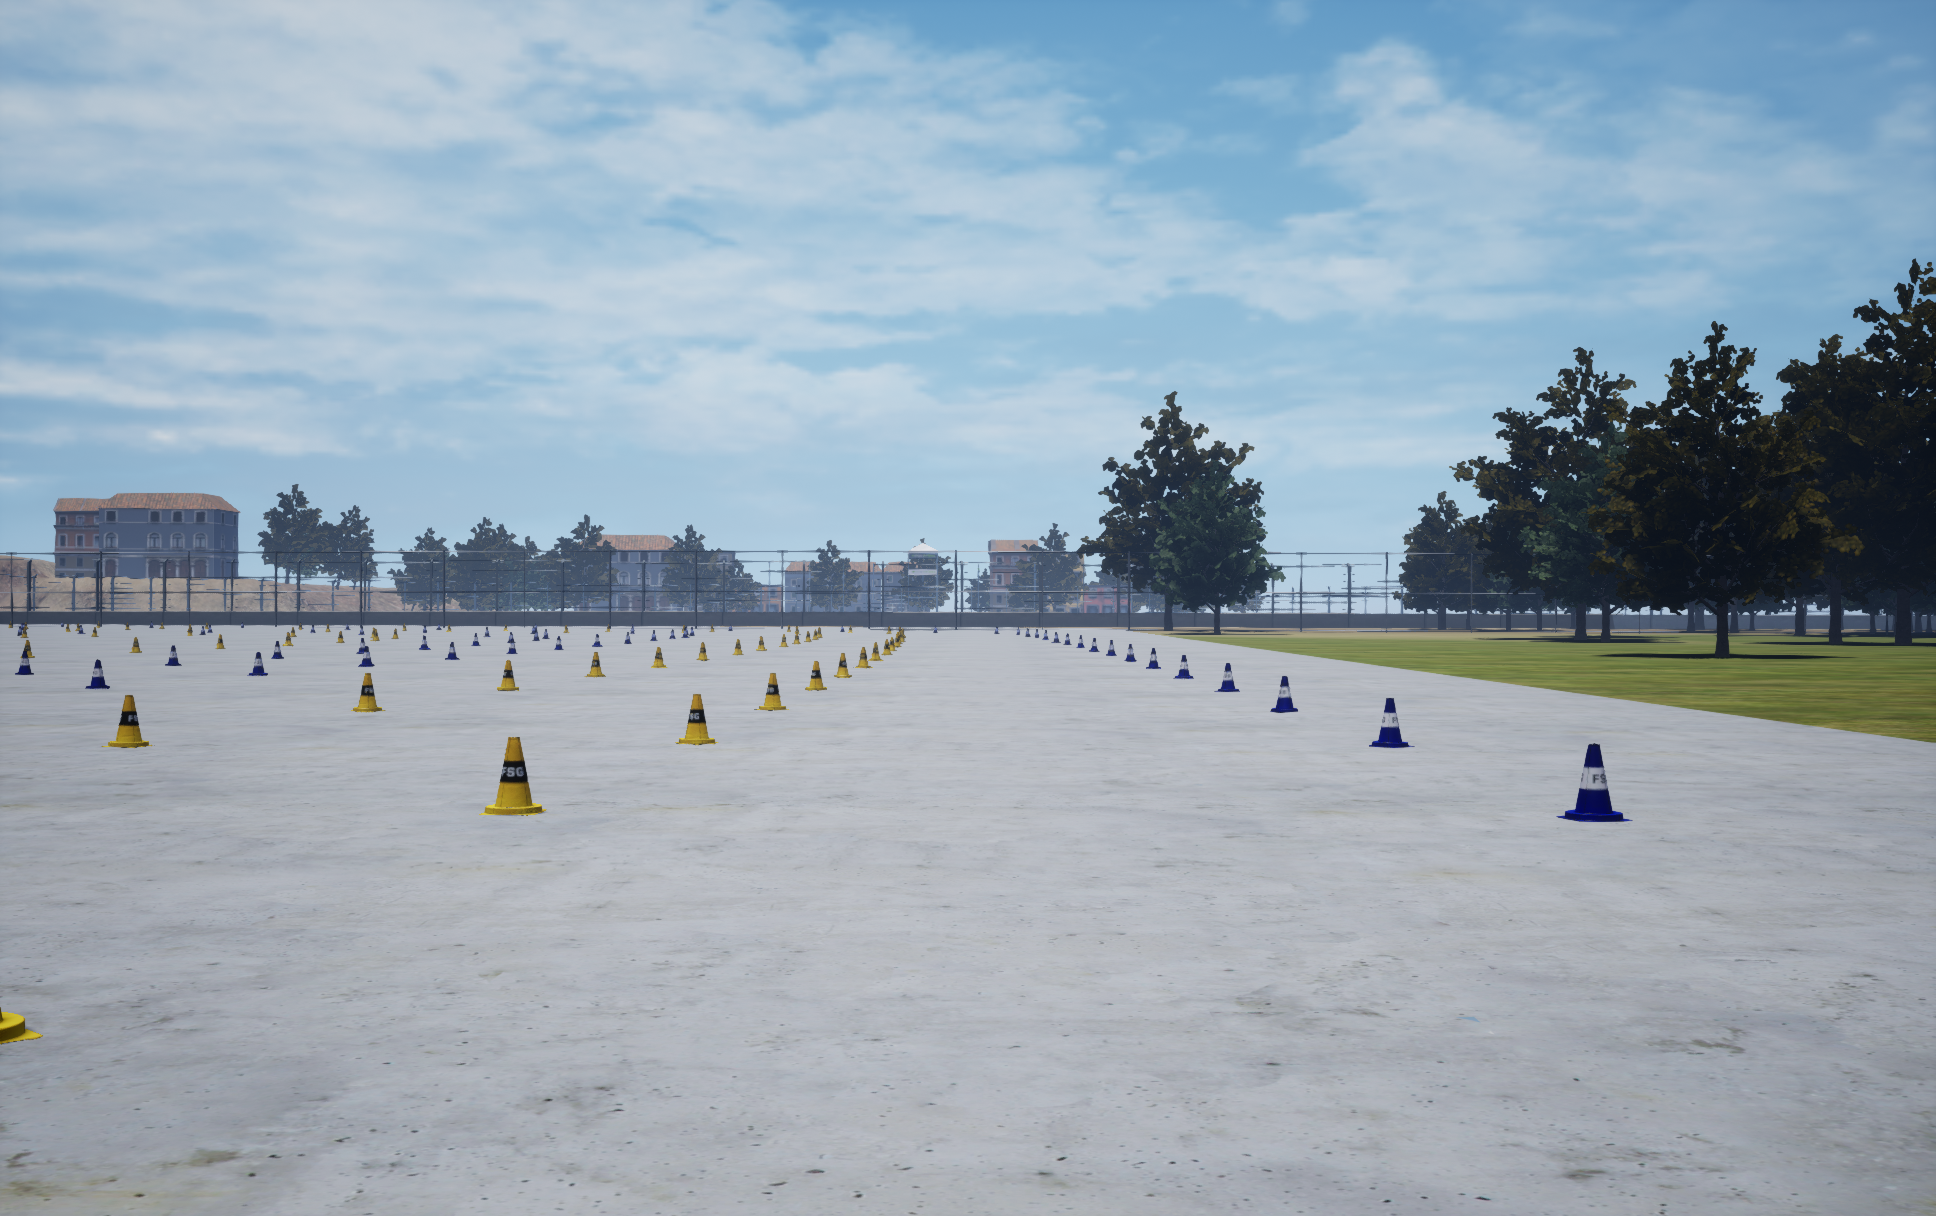blue: (479, 737, 546, 815), (101, 695, 154, 747), (675, 693, 719, 744), (0, 1007, 42, 1044), (754, 672, 789, 710), (352, 672, 385, 712), (497, 660, 518, 691), (805, 661, 827, 691), (584, 651, 605, 677), (834, 653, 850, 677), (853, 647, 871, 667), (651, 647, 667, 667), (869, 642, 883, 660), (696, 642, 709, 660)
yellow: (1556, 742, 1632, 821), (1369, 698, 1413, 747), (1271, 677, 1297, 712), (85, 658, 109, 688), (1215, 663, 1238, 691), (247, 651, 268, 675), (1173, 656, 1194, 678), (15, 651, 34, 674), (165, 644, 181, 665), (359, 646, 374, 665), (1146, 649, 1160, 668), (1123, 644, 1136, 661)
